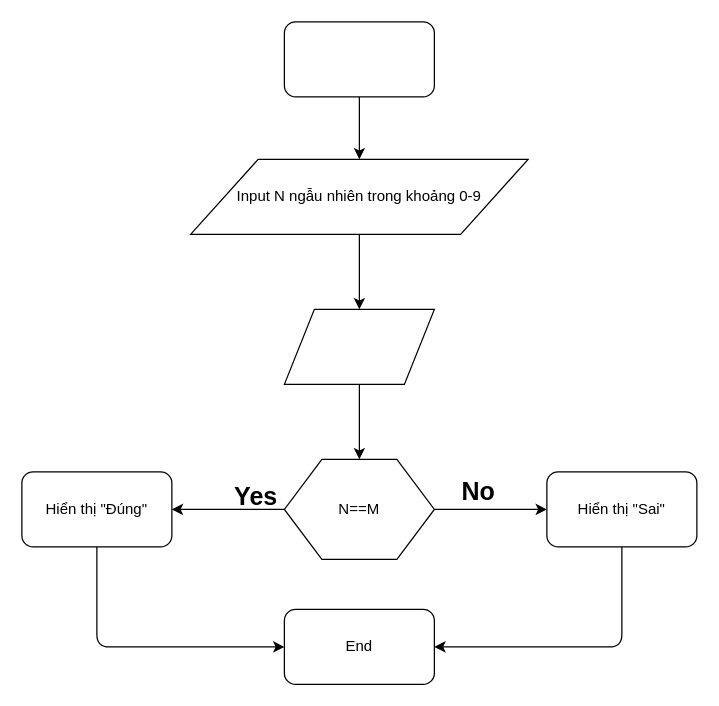
This 719x706 diagram has some shape labels left out. The shapes that lost their labels are listed below. From the top down, each one's centre as x and y in pixels, then its label:
At point 358,59: "Start".
At point 358,346: "Input M".
